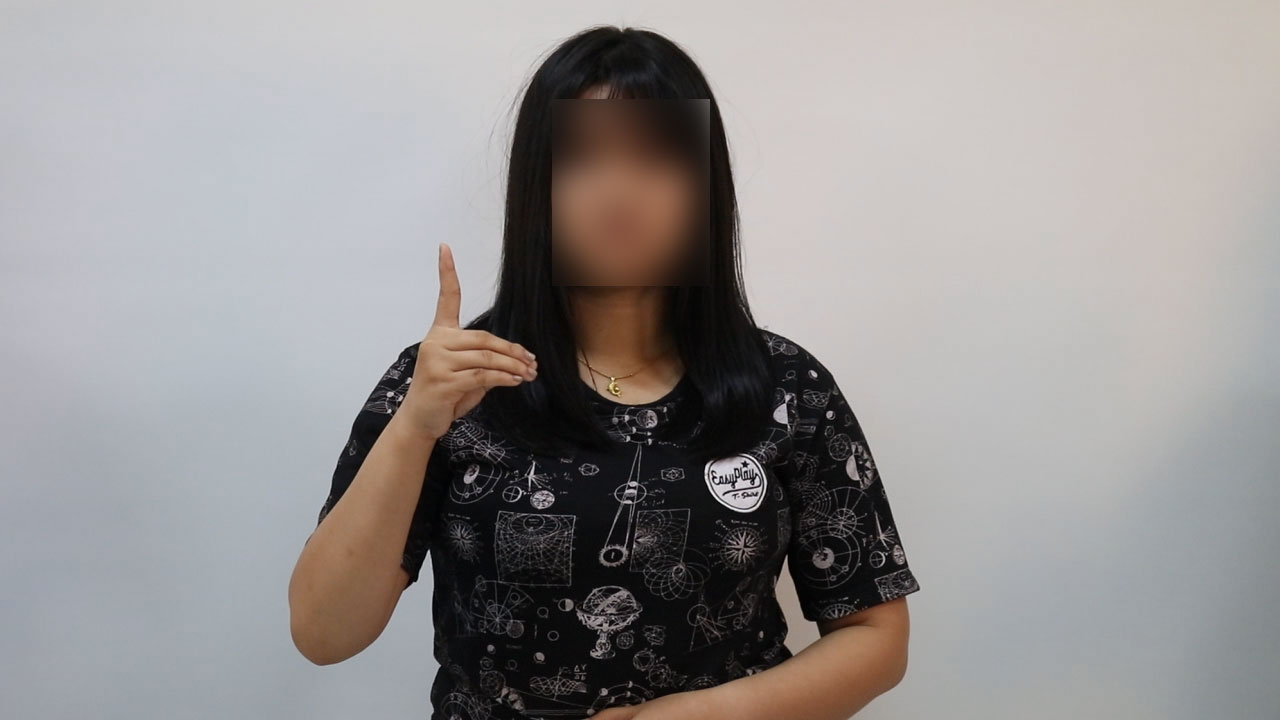dor: (383, 238, 543, 429)
